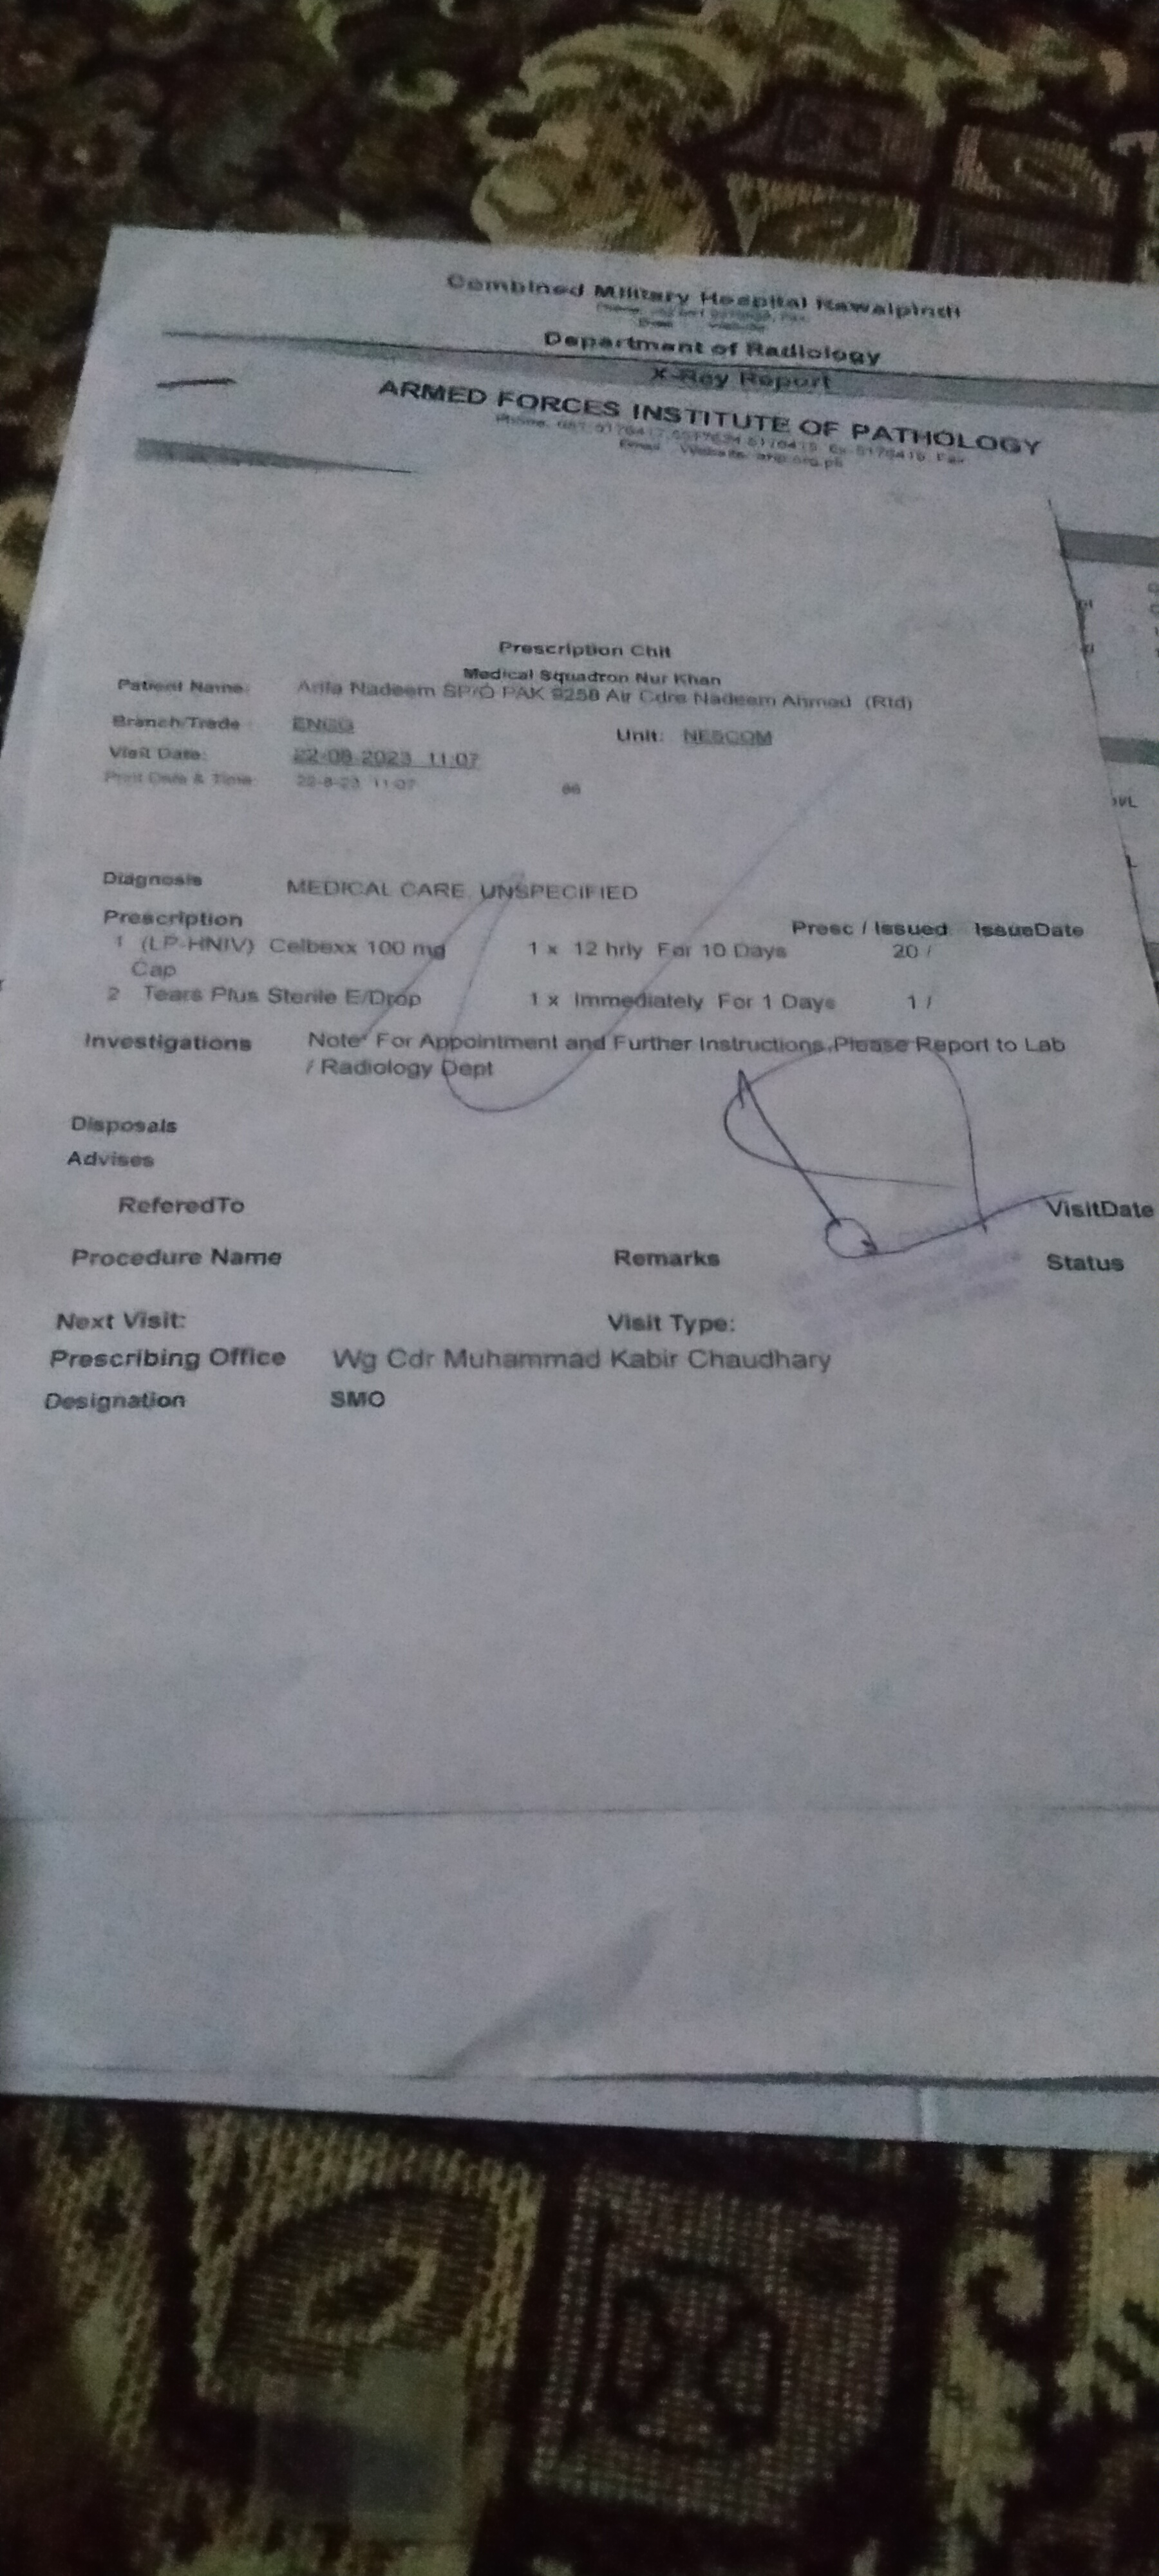report: (59, 851, 1108, 1127)
